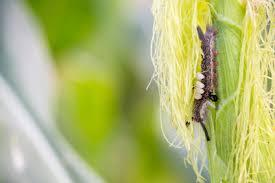fallarmy_worm: (191, 21, 225, 147)
